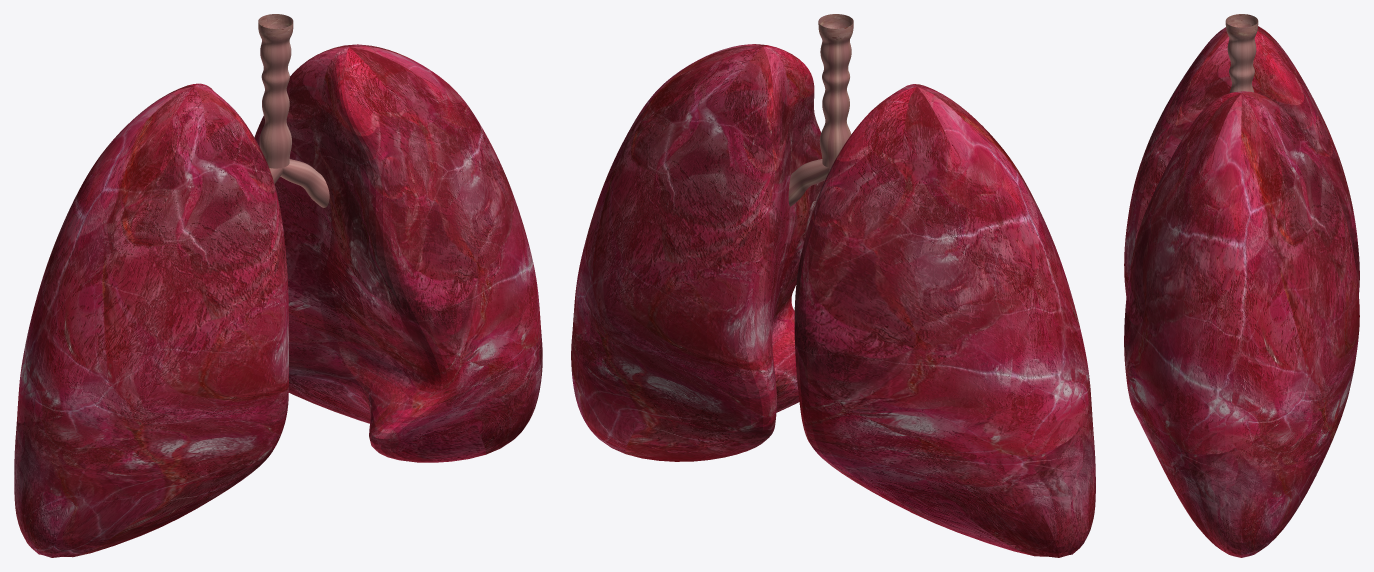
File: respiratory.glb
The picture shows the model from 3 angles, left to right: view 1: azimuth 30°, elevation 25°; view 2: azimuth 150°, elevation 25°; view 3: azimuth 270°, elevation 25°; orthographic projection. The views are drawn at different scales.
Parts seen in each view (by area): view 1: Sphere_3, Sphere.001_4, Cylinder_5; view 2: Sphere_3, Sphere.001_4, Cylinder_5; view 3: Sphere.001_4, Sphere_3, Cylinder_5.
Boxes of the visible parts, x1=… form: Sphere_3: x1=14, y1=83, x2=288, y2=557; Sphere.001_4: x1=254, y1=44, x2=542, y2=462; Cylinder_5: x1=258, y1=14, x2=329, y2=207; Sphere_3: x1=794, y1=84, x2=1095, y2=557; Sphere.001_4: x1=571, y1=44, x2=824, y2=461; Cylinder_5: x1=788, y1=14, x2=853, y2=206; Sphere.001_4: x1=1124, y1=91, x2=1359, y2=557; Sphere_3: x1=1124, y1=26, x2=1359, y2=296; Cylinder_5: x1=1225, y1=14, x2=1258, y2=92.
Size of the model in its own units: 7.45 by 6.72 by 3.24.
3 materials, 3 textured.
